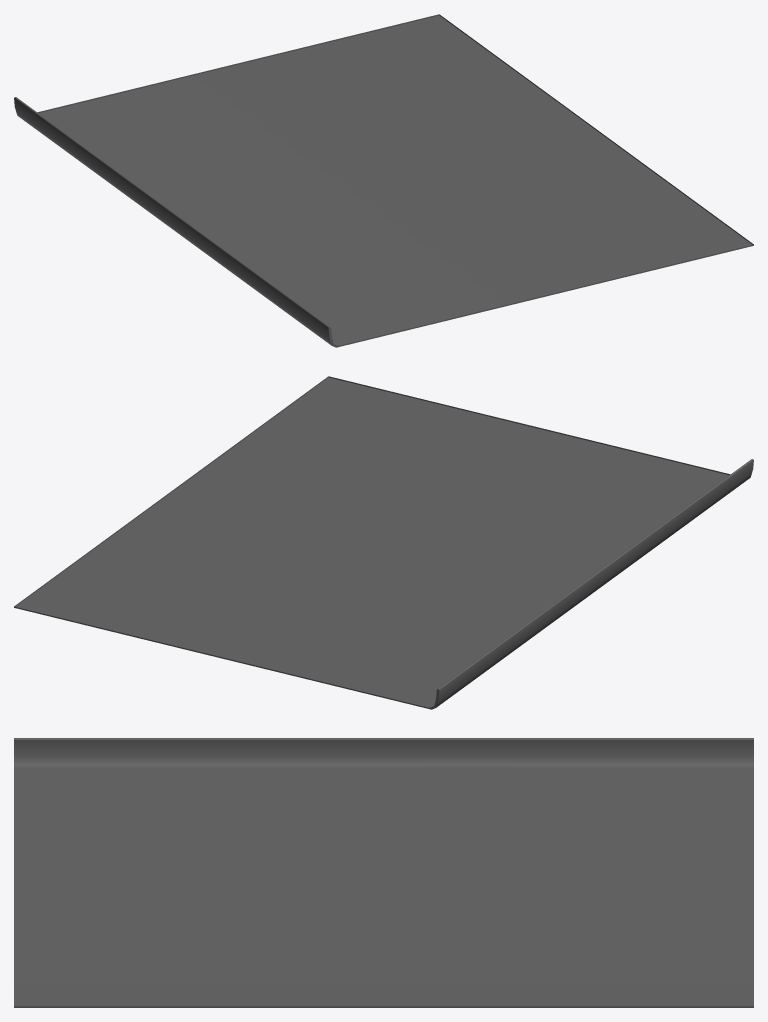
Rendered from Book_14_book_14_2.obj.
The picture shows the model from 3 angles, top to bottom: view 1: azimuth 30°, elevation 25°; view 2: azimuth 150°, elevation 25°; view 3: azimuth 270°, elevation 25°; orthographic projection. The views are drawn at different scales.
Bounding box in the file's own units: 0.1466 × 0.00731 × 0.1878.
Materials: 1 (1 with a texture image).
